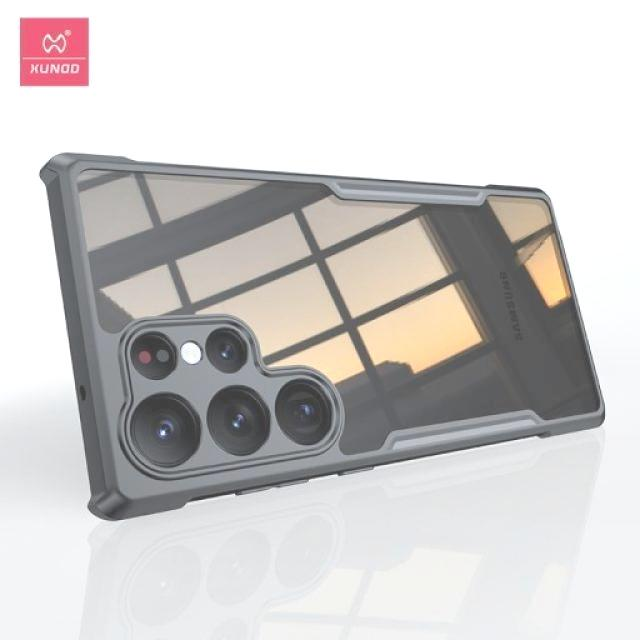lens: (97, 321, 358, 472)
phone: (44, 150, 610, 525)
